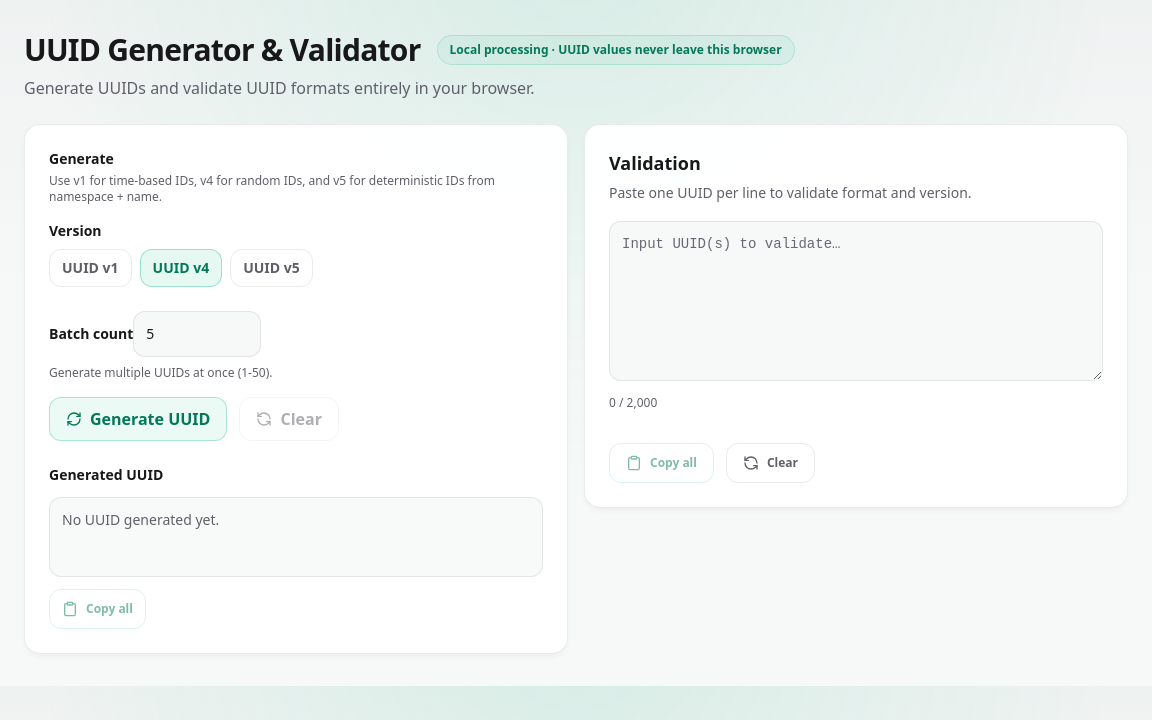
Test: UuidToolClient › generates UUIDs and shows list content
Replace the text in the number field labelled "Batch count" with "2" at x=197, y=334, box [133,311,261,357]
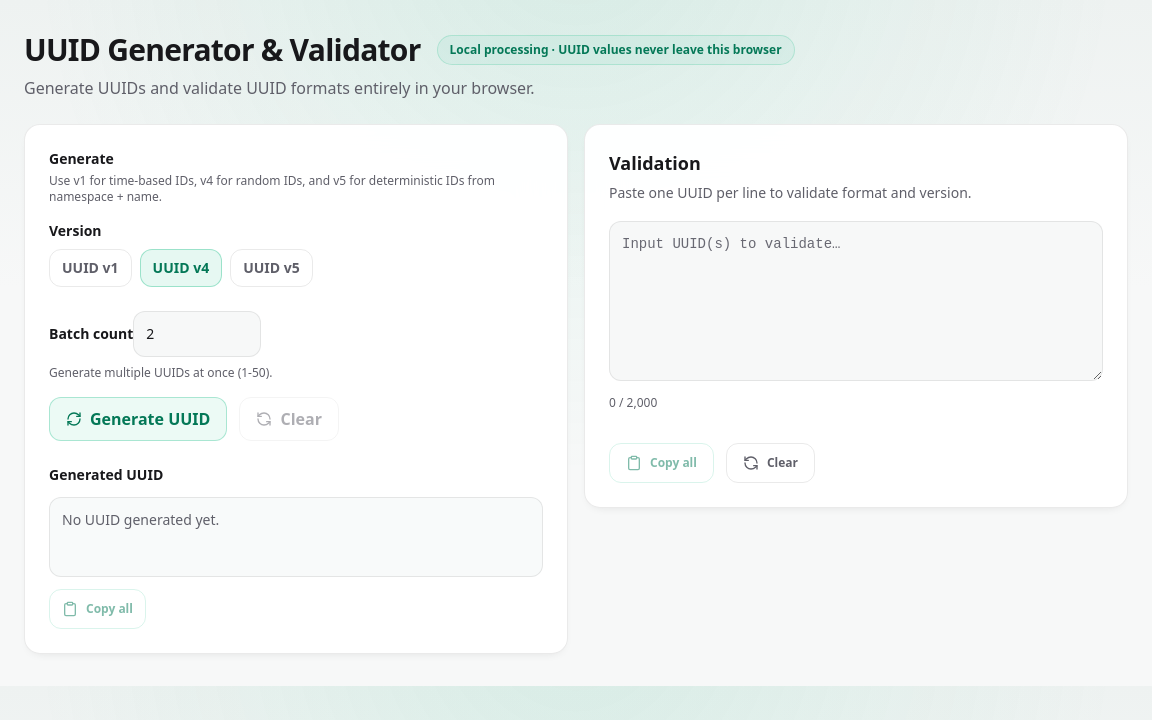
Click the button "Generate UUID".
click(138, 419)  # box [49,397,227,441]
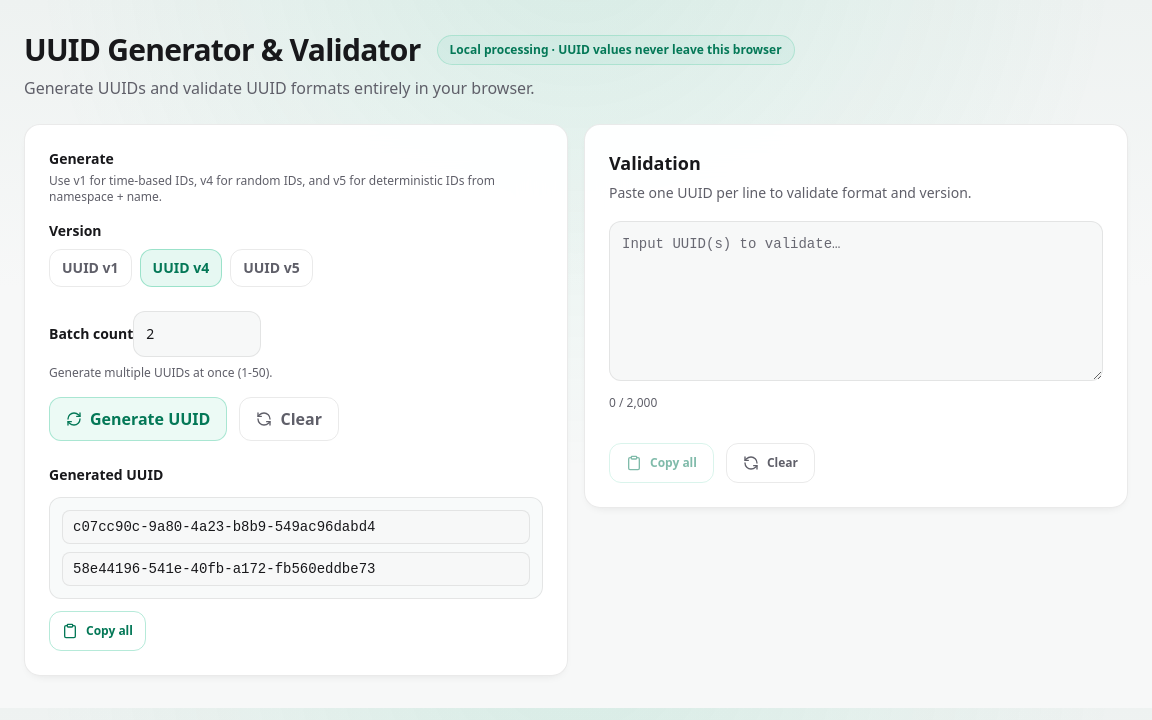
Now the number of list items is 2, box [62,510,530,544]; [62,552,530,586]
